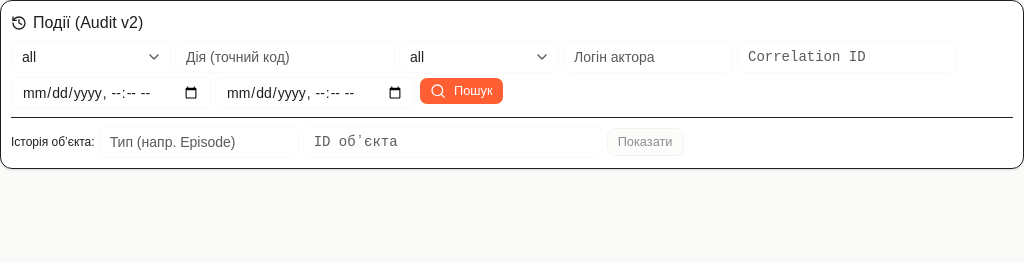
Test: AuditEventConsole › loads object history with root markers
Type "User" into the field with placeholder "Тип (напр. Episode)" at x=199, y=142, box x1=99 y1=126 x2=299 y2=158
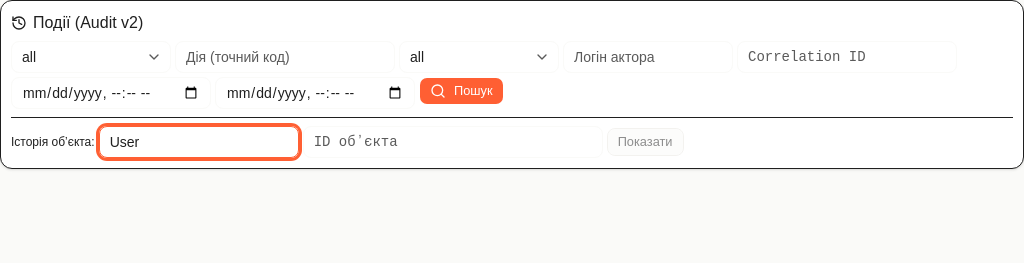
Type "16" into the field with placeholder "ID обʼєкта" at x=453, y=142, box x1=303 y1=126 x2=603 y2=158
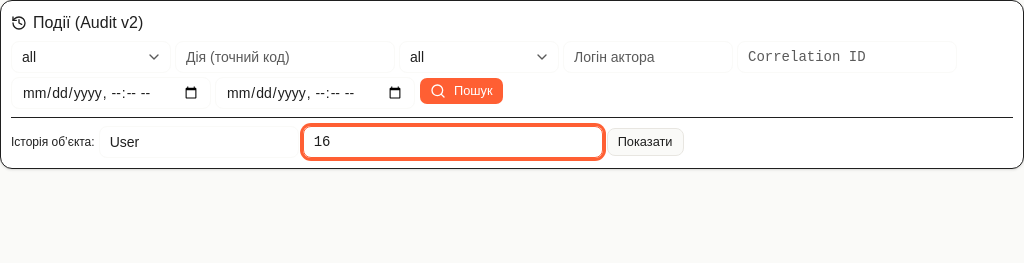
Click the button "Показати" at x=645, y=142, box x1=607 y1=128 x2=684 y2=156
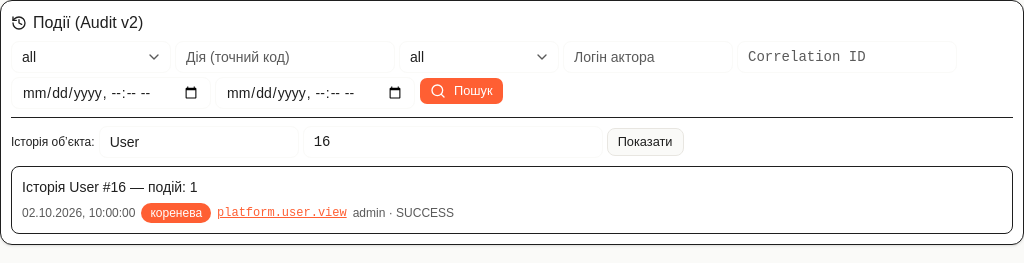
Result: the element with test id "audit-object-history" is shown at x1=11 y1=166 x2=1013 y2=234
Result: the text "коренева" is shown at x1=141 y1=203 x2=211 y2=223
